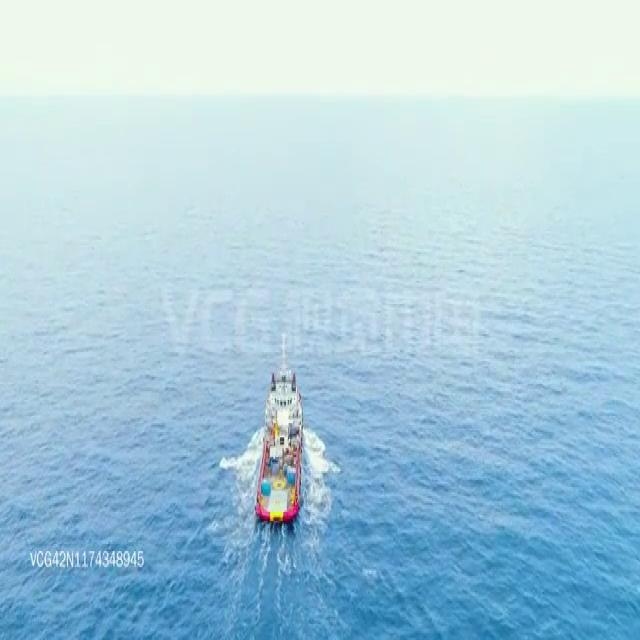fishing boat: (255, 326, 303, 521)
